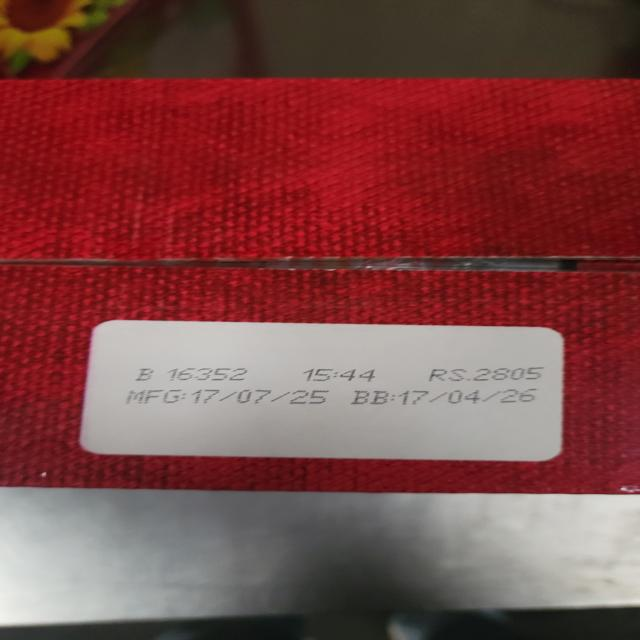BB: (349, 388, 538, 406)
Batch: (135, 367, 250, 382)
MFG: (126, 390, 335, 406)
RS: (428, 367, 548, 382)
TimeStamp: (304, 367, 382, 385)
